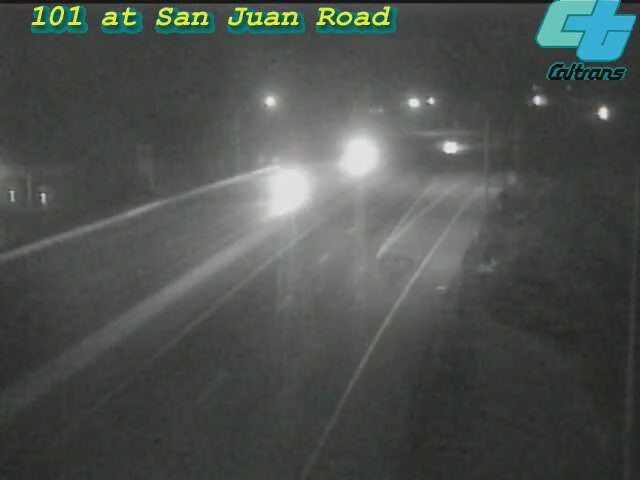vehicle: (248, 144, 328, 224), (322, 114, 402, 194), (426, 123, 476, 173), (581, 88, 631, 138)
